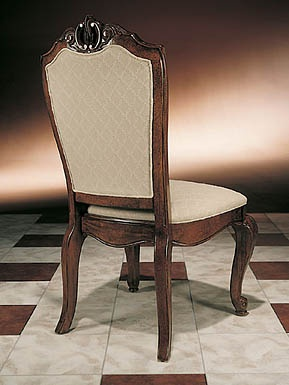obstacle: (42, 16, 256, 360)
